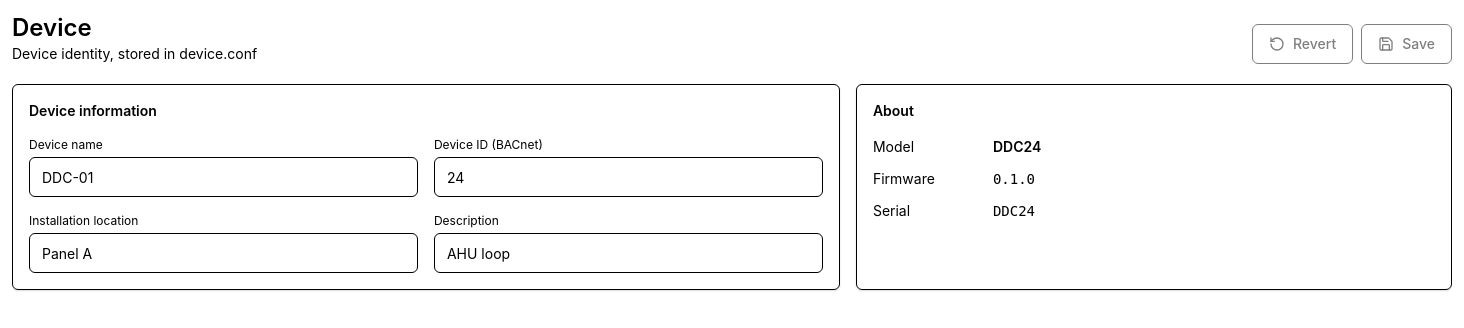
Test case: SettingsPage device configuration › blocks saving an empty device name
The width and height of the screenshot is (1464, 328).
Clear the field labelled "Device name" at (224, 177), box [29,157,418,197]
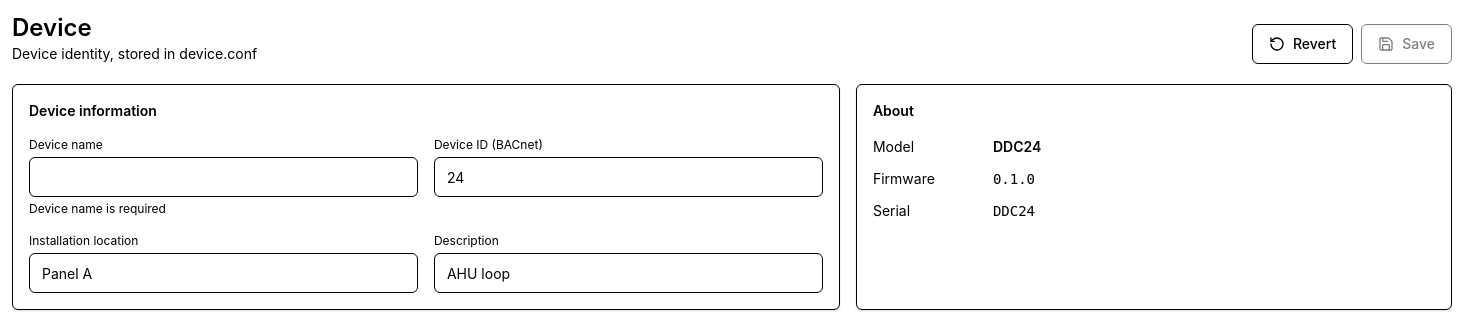
Expected: the button "Save" is disabled, [1361,24,1452,64]
Expected: the text "Device name is required" is shown, [29,201,166,216]
